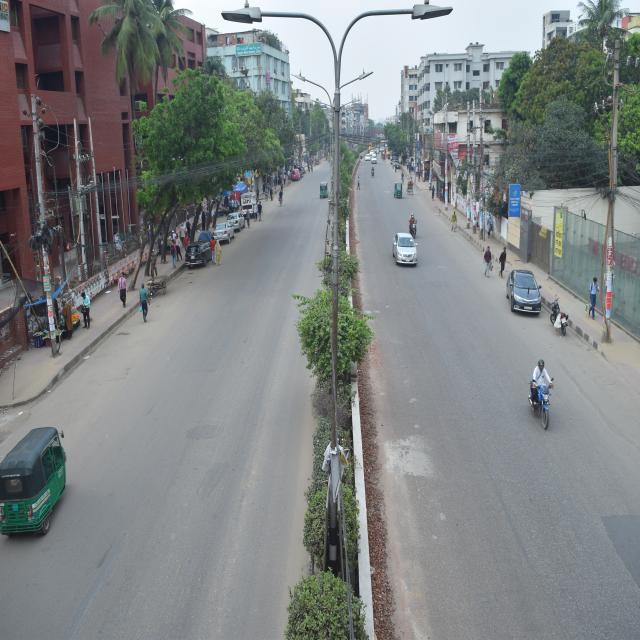car: (505, 256, 545, 326), (182, 234, 218, 274), (393, 230, 417, 272), (224, 207, 249, 236), (210, 218, 234, 244)
motorbike: (517, 365, 559, 446), (546, 299, 572, 340), (406, 210, 425, 244)
pickup-van: (238, 196, 262, 223)
